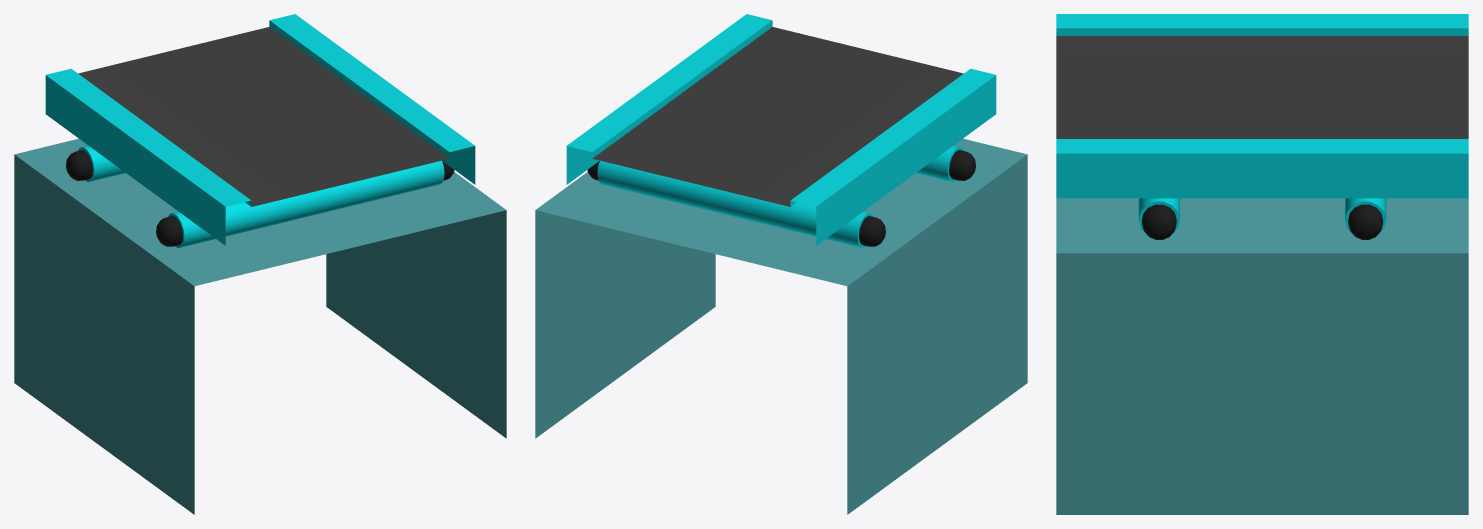
The model's file is conveyor_2.fbx.
3 renders of one model, left to right at view 1: azimuth 30°, elevation 25°; view 2: azimuth 150°, elevation 25°; view 3: azimuth 270°, elevation 25°, orthographic. The views are drawn at different scales.
Parts seen in each view (by area): view 1: conveyor_2; view 2: conveyor_2; view 3: conveyor_2.
Part boxes in pixels (bbox=[...]): conveyor_2: bbox=[14, 14, 506, 514]; conveyor_2: bbox=[535, 14, 1027, 514]; conveyor_2: bbox=[1056, 14, 1468, 514].
Size of the model in its own units: 1 by 0.92 by 1.
